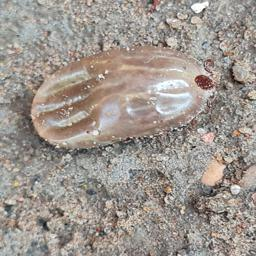Rhipicephalus sanguineus: (30, 47, 212, 148)
